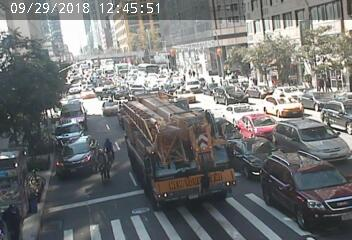car: (133, 107, 213, 176), (278, 158, 329, 204), (289, 124, 319, 151), (63, 145, 96, 167), (240, 144, 271, 165), (107, 95, 126, 116), (270, 95, 292, 113), (66, 102, 88, 119), (59, 129, 84, 140), (248, 118, 266, 130), (218, 87, 236, 99), (65, 81, 80, 92), (143, 64, 158, 74), (228, 104, 245, 112), (311, 89, 321, 100), (118, 63, 129, 73), (187, 78, 199, 86), (175, 86, 187, 94), (287, 84, 296, 92), (104, 68, 114, 75), (116, 87, 125, 92), (80, 87, 88, 91)
